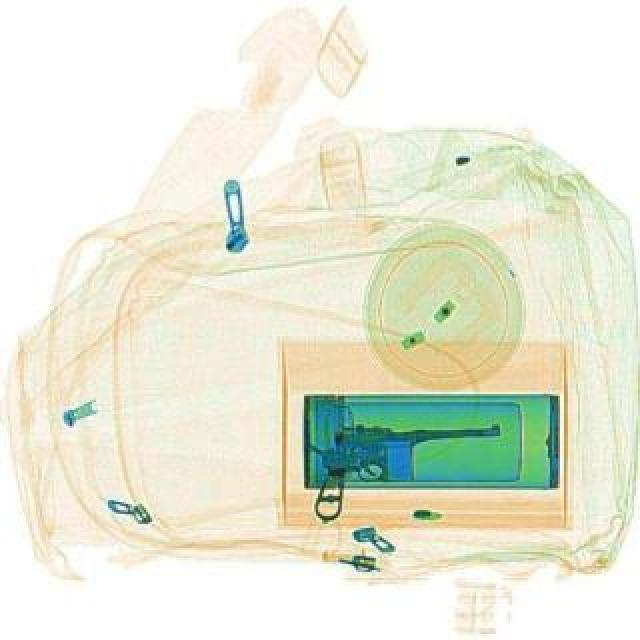gun: (304, 416, 504, 520)
